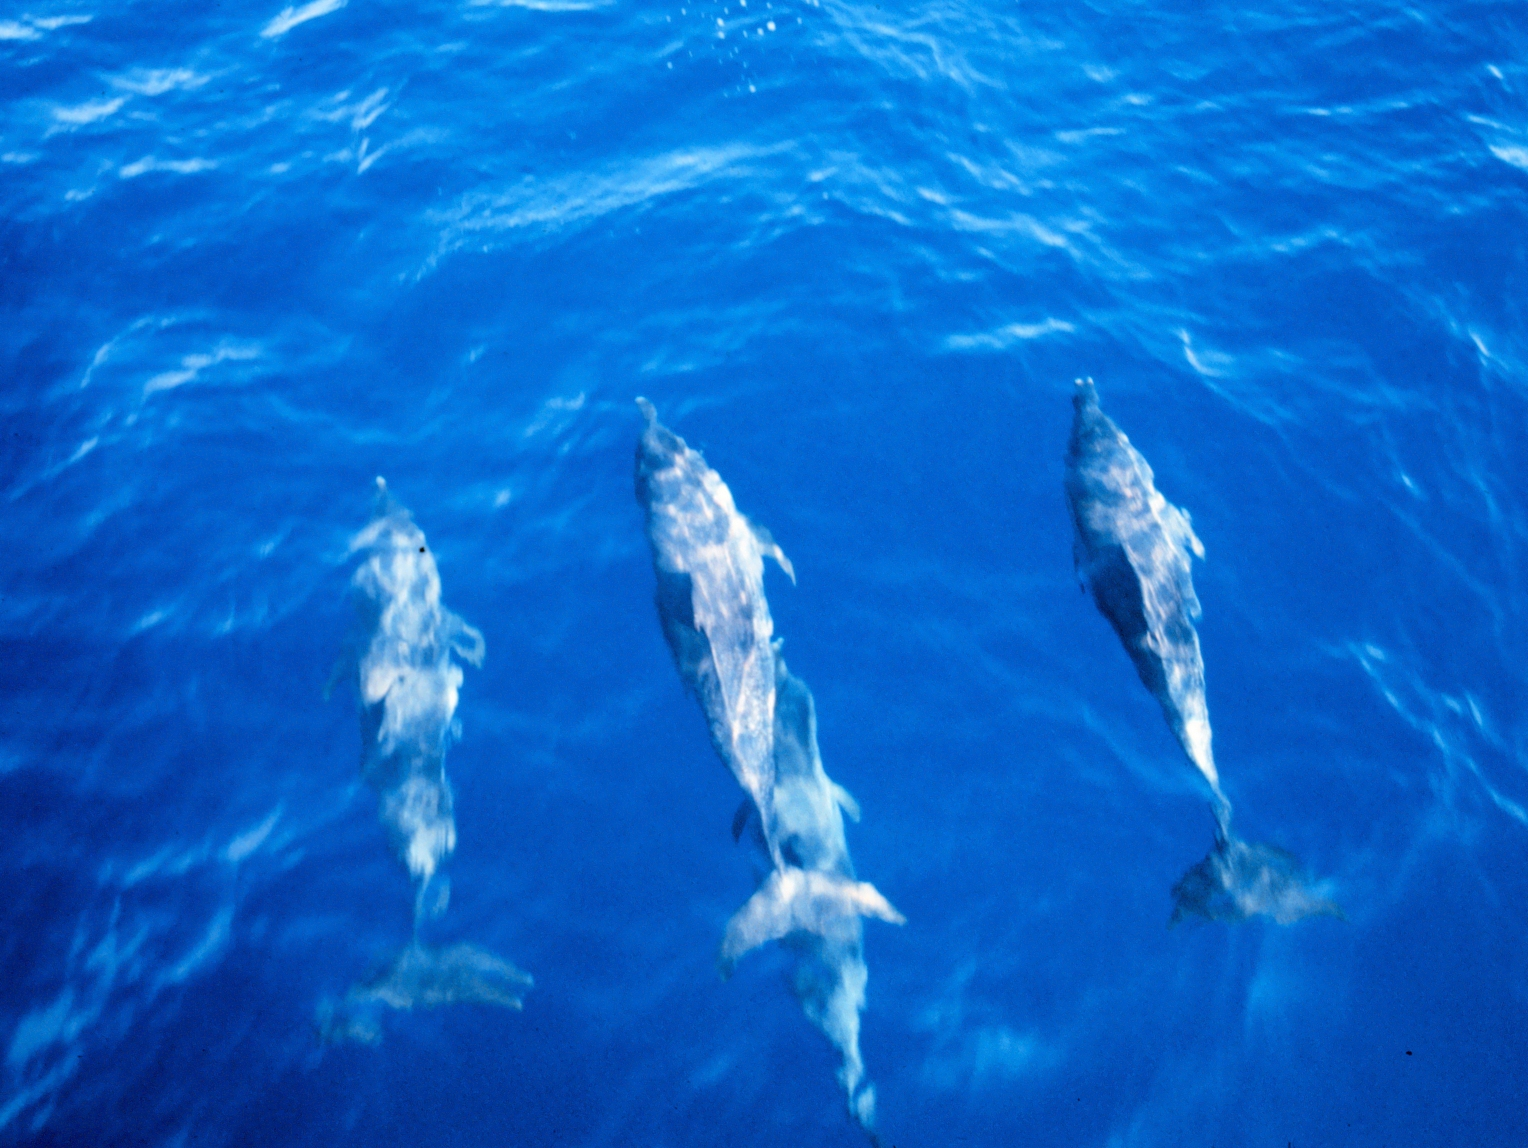dolphin: (630, 389, 903, 945), (1062, 367, 1333, 916), (324, 478, 531, 1015), (710, 655, 884, 1127)
